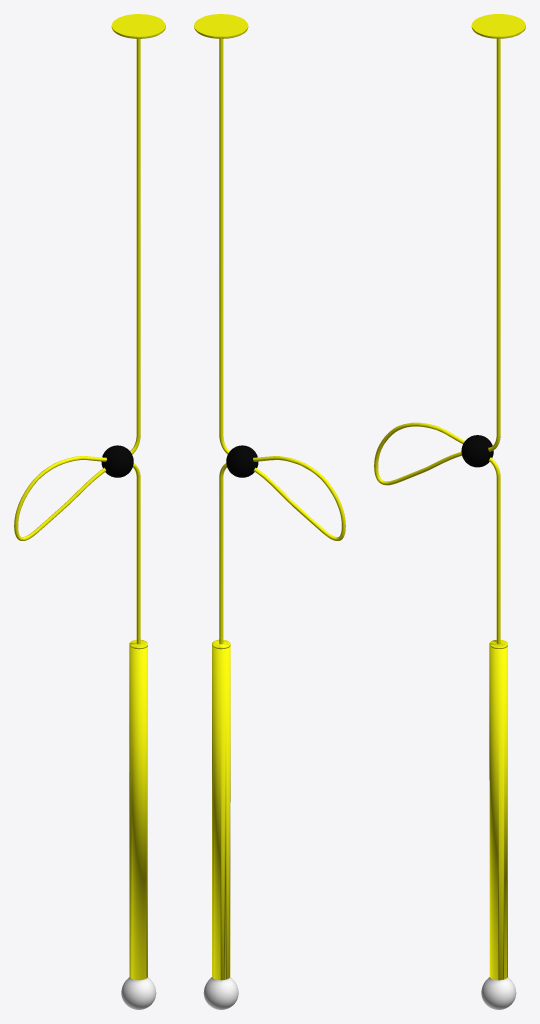
The model's file is designconnected-strike-pendant-lamp-8962.optimized.glb.
3 views of the same model, side by side, from view 1: azimuth 30°, elevation 25°; view 2: azimuth 150°, elevation 25°; view 3: azimuth 330°, elevation 25° (orthographic).
Parts seen in each view (by area): view 1: Current_Strike_mat1; view 2: Current_Strike_mat1; view 3: Current_Strike_mat1.
Boxes of the visible parts, x1,y1,x2,y2 form: Current_Strike_mat1: (14, 14, 165, 1009); Current_Strike_mat1: (194, 14, 345, 1009); Current_Strike_mat1: (374, 14, 525, 1009).
Size of the model in its own units: 0.2 by 1.27 by 0.0636.
